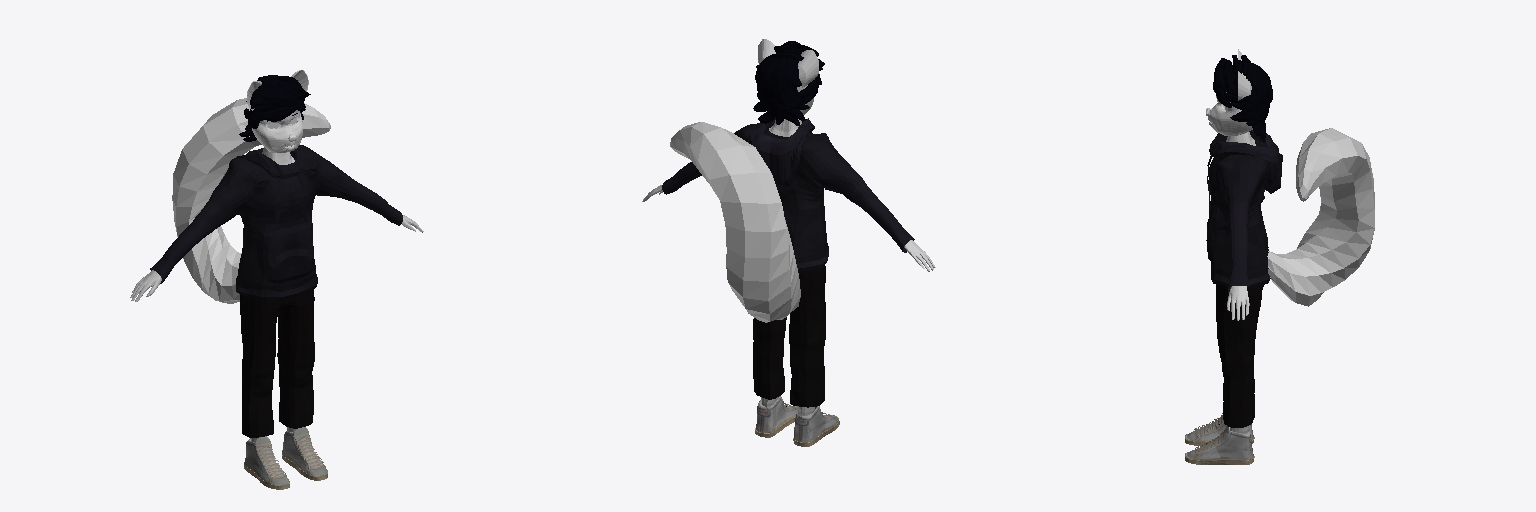
The picture shows the model from 3 angles: view 1: azimuth 30°, elevation 25°; view 2: azimuth 150°, elevation 25°; view 3: azimuth 270°, elevation 25°; orthographic projection.
Visible parts, largest first — view 1: clothes, body, head,; view 2: clothes, body, head,; view 3: clothes, body, head,.
Part boxes in pixels (x1,y1,x2,y2): clothes: (150,145,402,489); body: (130,98,423,303); head,: (239,70,310,152); clothes: (662,117,914,446); body: (642,119,935,322); head,: (753,39,824,125); clothes: (1185,130,1282,464); body: (1226,128,1374,320); head,: (1206,49,1272,138).
Bounding box in the file's own units: 1.53 × 1.97 × 0.8685.
Materials: 4 (2 with a texture image).